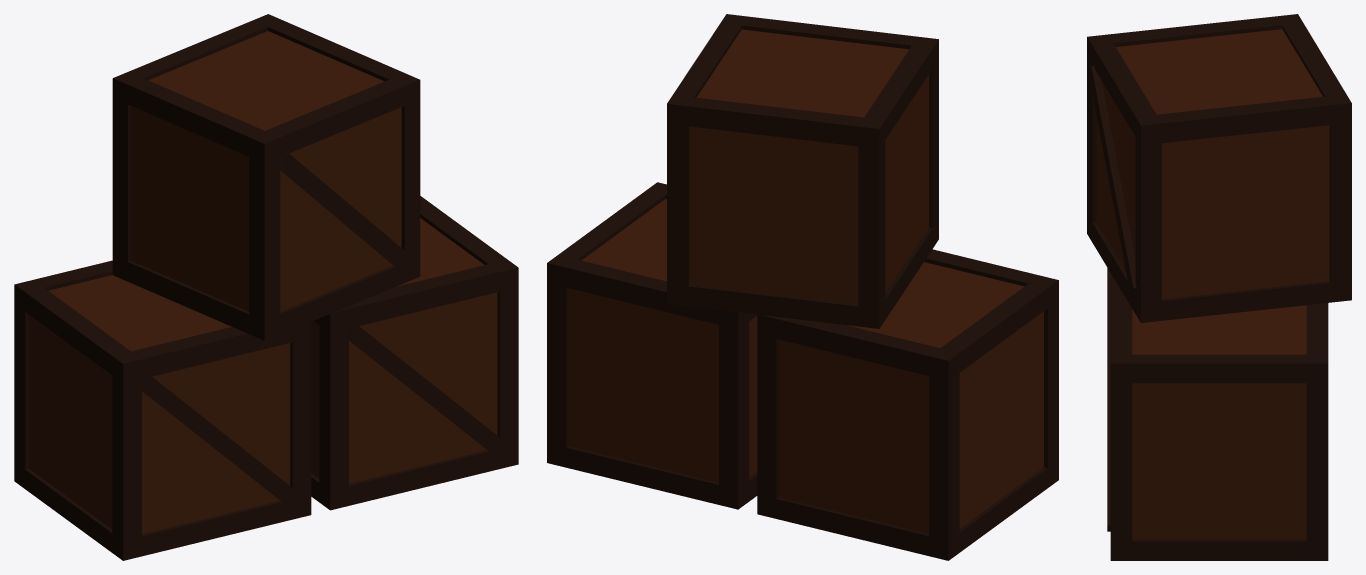
Rendered from SM_Hide_Crate_Stack.glb.
The picture shows the model from 3 angles, left to right: view 1: azimuth 30°, elevation 25°; view 2: azimuth 150°, elevation 25°; view 3: azimuth 270°, elevation 25°; orthographic projection.
Visible parts, largest first — view 1: SM_Hide_Crate_Stack-col; view 2: SM_Hide_Crate_Stack-col; view 3: SM_Hide_Crate_Stack-col.
Boxes of the visible parts, x1,y1,x2,y2 form: SM_Hide_Crate_Stack-col: (14,14,518,560); SM_Hide_Crate_Stack-col: (547,14,1058,560); SM_Hide_Crate_Stack-col: (1087,14,1351,560).
Bounding box in the file's own units: 2.1 × 2 × 1.22.
